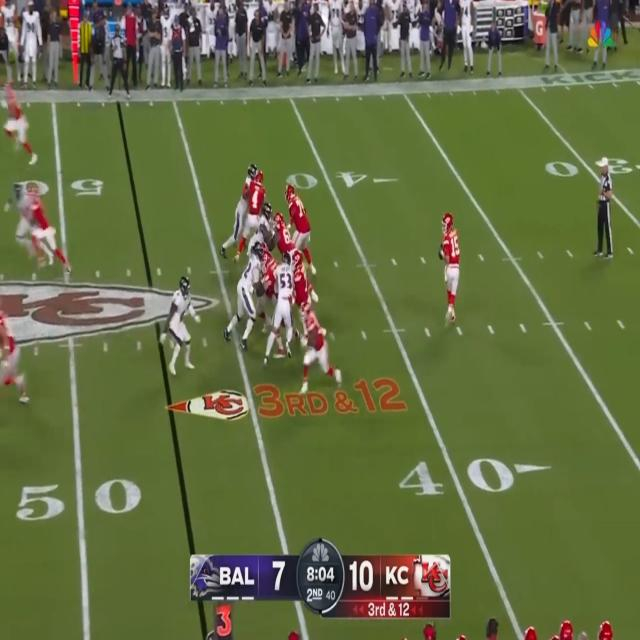Ball: (438, 241, 444, 261)
